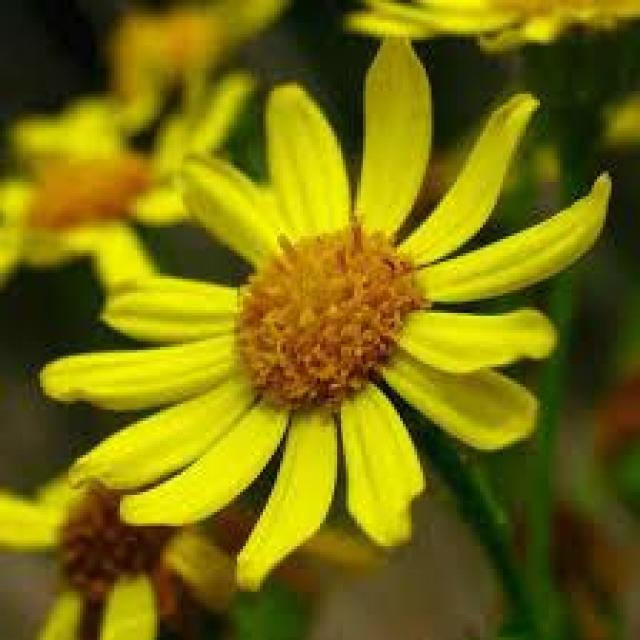organic waste: (49, 47, 608, 547)
